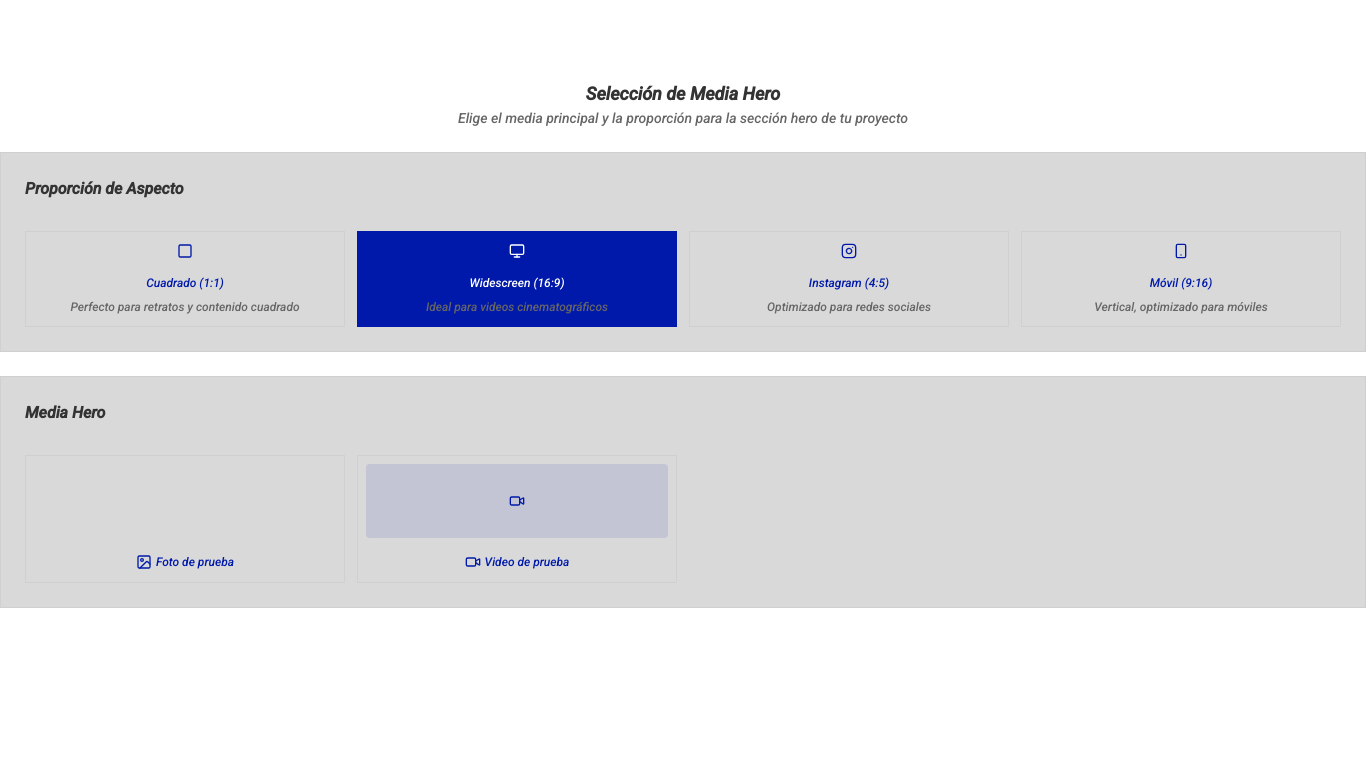
HeroMediaSelector › shows preview when media is selected
# Select media
Click the button "Foto de prueba" at [195, 562], box [25,455,345,583]
(page scrolled)
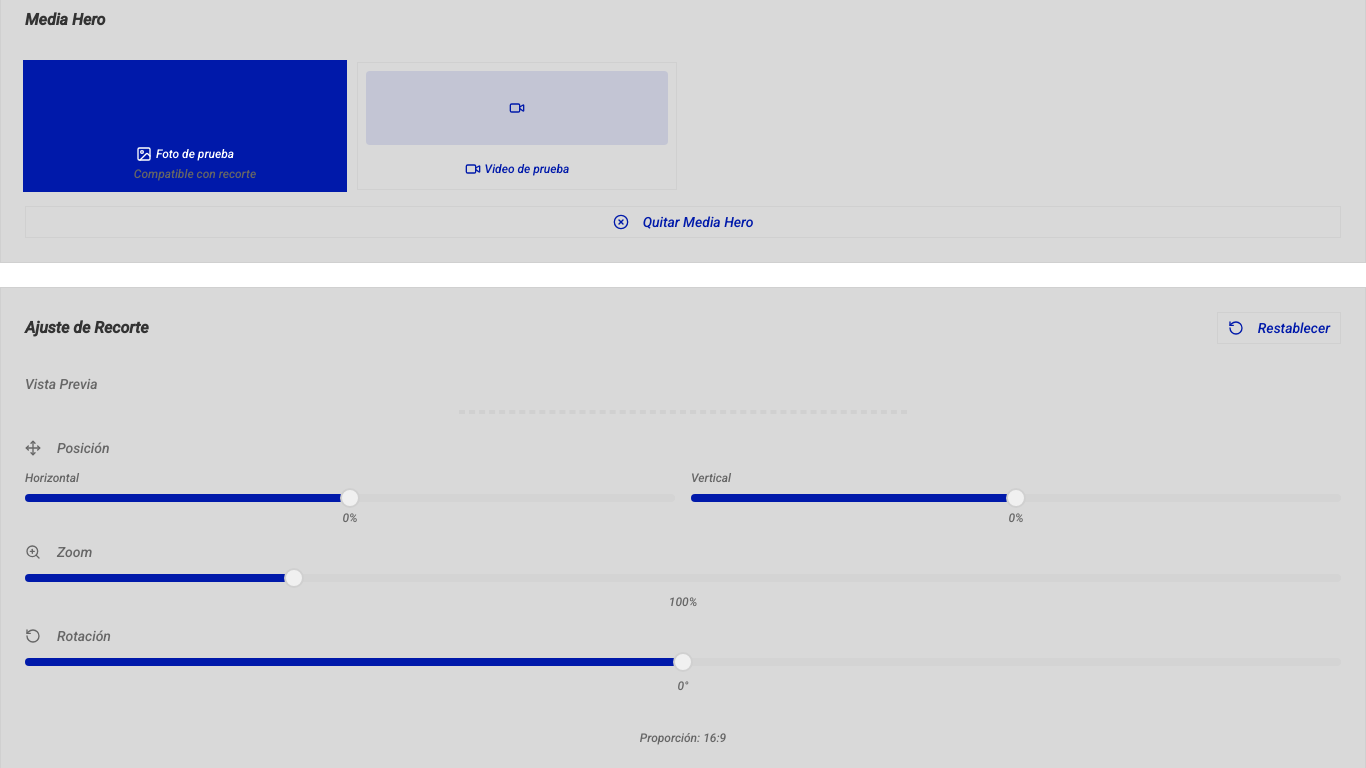
expect the text "Vista Previa" is shown: met, box [25,376,98,392]
